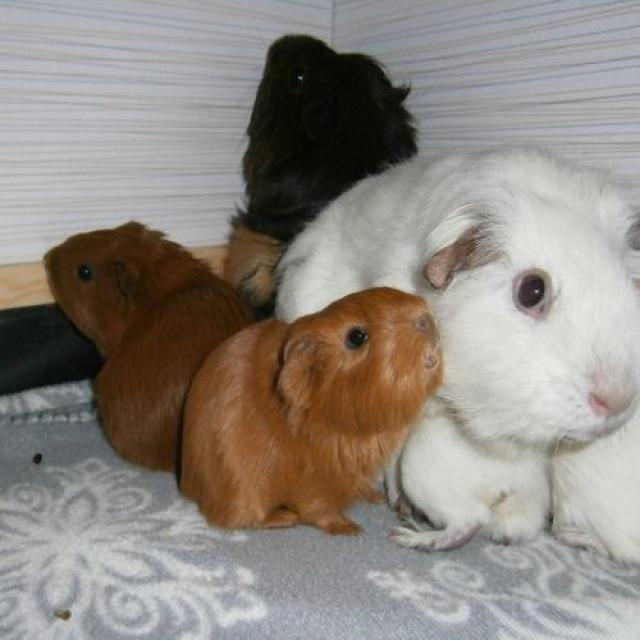guinea pig: (266, 142, 640, 458), (184, 280, 453, 542), (38, 219, 269, 488), (238, 35, 413, 232)
